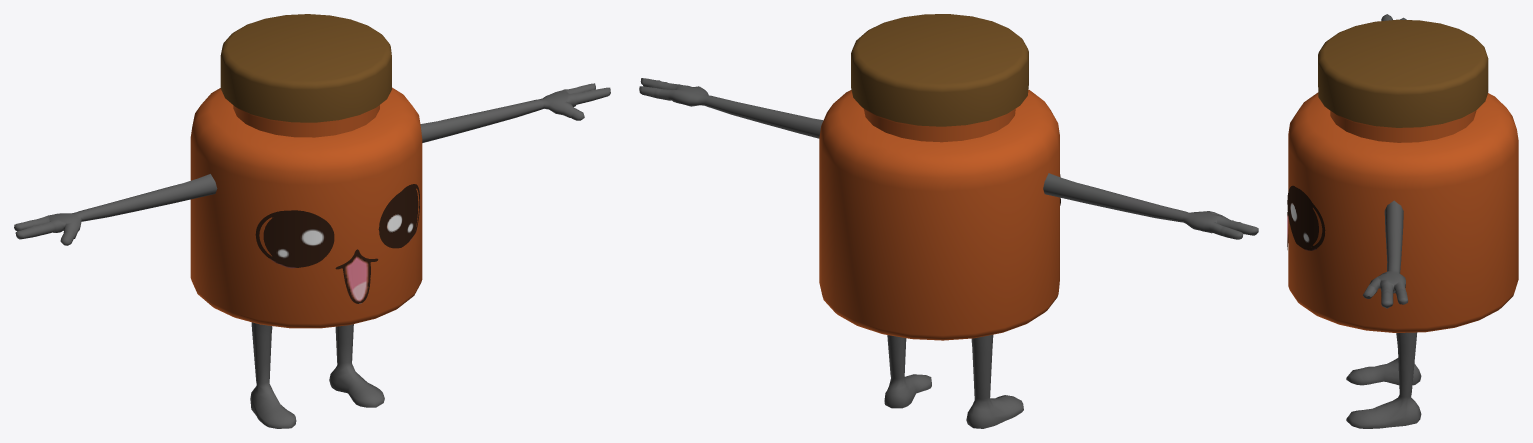
The model's file is bottle-cut.fbx.
The picture shows the model from 3 angles, left to right: view 1: azimuth 30°, elevation 25°; view 2: azimuth 150°, elevation 25°; view 3: azimuth 270°, elevation 25°; orthographic projection. The views are drawn at different scales.
Parts seen in each view (by area): view 1: 对象001, polySurface1, polySurface2_shard2, 对象002, polySurface3; view 2: 对象002, polySurface1, polySurface2_shard2, 对象001; view 3: 对象001, polySurface1, polySurface2_shard2, 对象002, polySurface3.
Part boxes in pixels (x1,y1,x2,y2): 对象001: (209,87,422,328); polySurface1: (220,14,391,122); polySurface2_shard2: (14,83,610,428); 对象002: (190,88,308,328); polySurface3: (255,184,419,303); 对象002: (819,143,1059,340); polySurface1: (851,14,1028,126); polySurface2_shard2: (639,78,1258,428); 对象001: (819,89,1059,267); 对象001: (1288,92,1513,332); polySurface1: (1318,19,1488,127); polySurface2_shard2: (1346,14,1421,428); 对象002: (1441,93,1518,329); polySurface3: (1287,185,1325,250).
Bounding box in the file's own units: 50.56 × 28.44 × 17.12.
